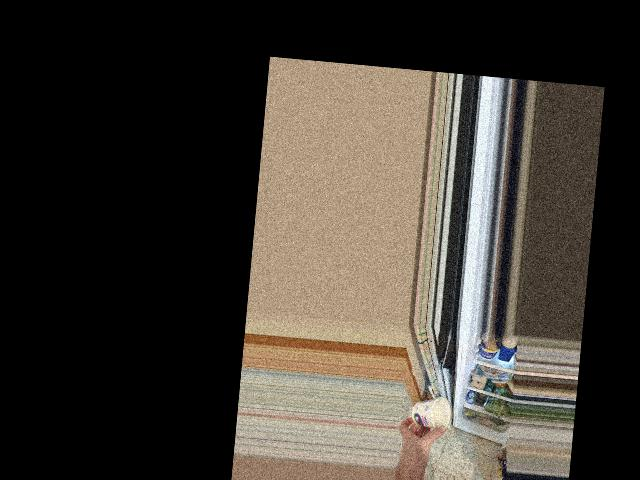cotage: (407, 395, 452, 432)
